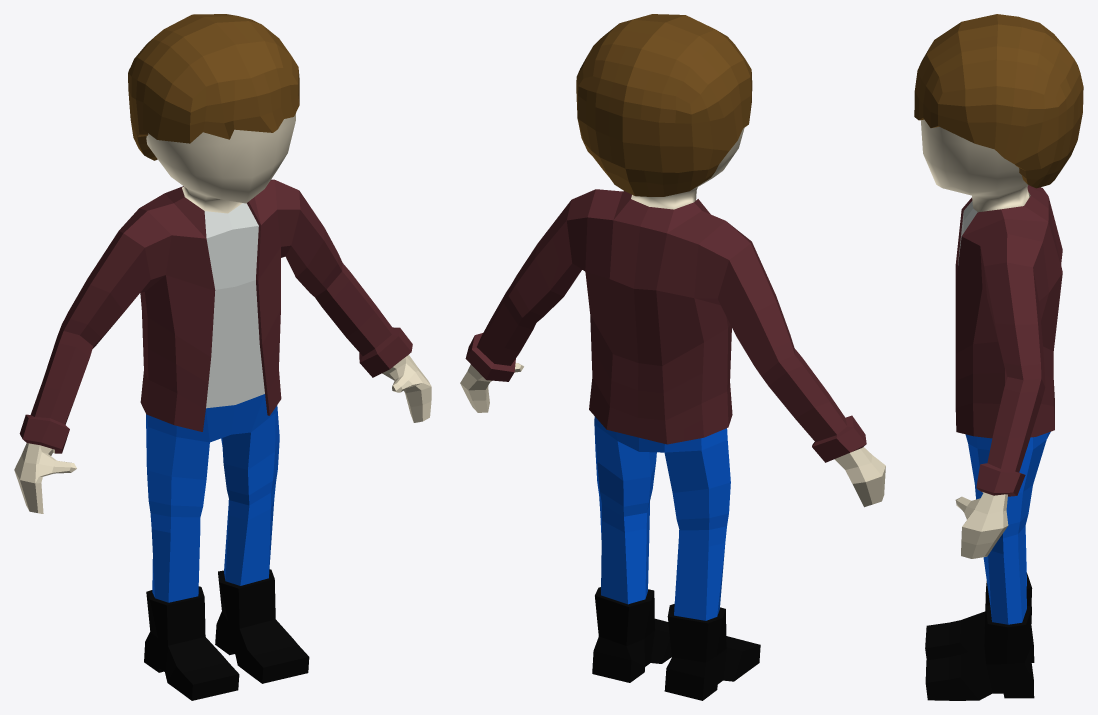
Rendered from Boy.fbx.
3 renders of one model, left to right at view 1: azimuth 30°, elevation 25°; view 2: azimuth 150°, elevation 25°; view 3: azimuth 270°, elevation 25°, orthographic. The views are drawn at different scales.
Visible parts, largest first — view 1: Character.001_Character.002; view 2: Character.001_Character.002; view 3: Character.001_Character.002.
Part boxes in pixels (x1,y1,x2,y2): Character.001_Character.002: (14,14,431,700); Character.001_Character.002: (460,14,885,700); Character.001_Character.002: (914,14,1083,700).
Bounding box in the file's own units: 272 × 407 × 96.29.
